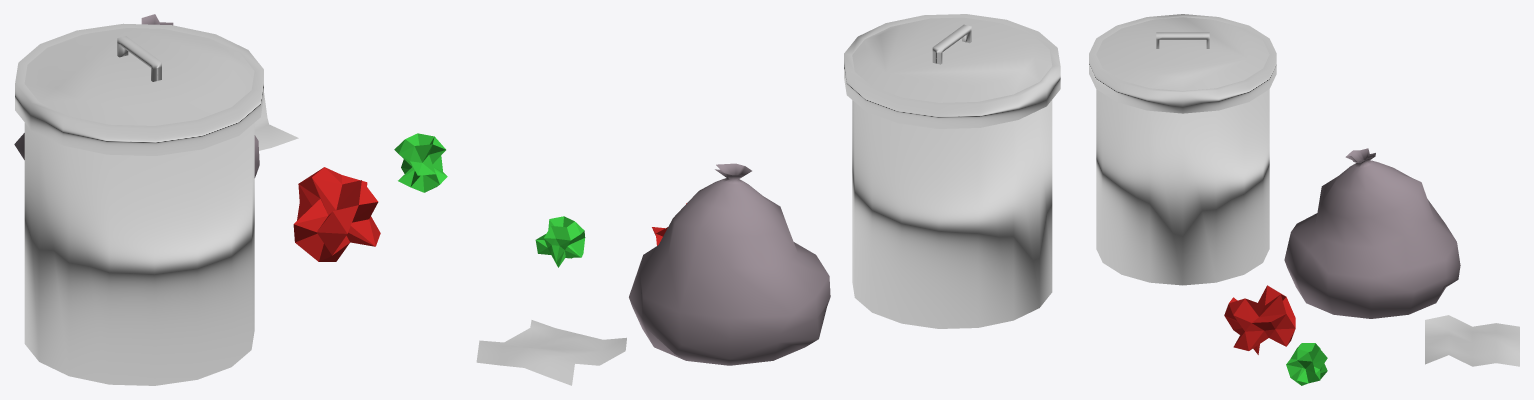
The model's file is law_Trash.fbx.
3 views of the same model, side by side, from view 1: azimuth 30°, elevation 25°; view 2: azimuth 150°, elevation 25°; view 3: azimuth 270°, elevation 25° (orthographic). The views are drawn at different scales.
Parts seen in each view (by area): view 1: Cube, Icosphere.001, Icosphere, Plane, Sphere; view 2: Cube, Sphere, Plane, Icosphere; view 3: Cube, Sphere, Plane, Icosphere.001, Icosphere.
Boxes of the visible parts, left/top/right/bottom form: Cube: left=15, top=23, right=263, bottom=385; Icosphere.001: left=293, top=167, right=380, bottom=261; Icosphere: left=394, top=133, right=447, bottom=192; Plane: left=254, top=93, right=298, bottom=150; Sphere: left=14, top=14, right=259, bottom=177; Cube: left=844, top=14, right=1060, bottom=328; Sphere: left=629, top=163, right=830, bottom=365; Plane: left=476, top=320, right=626, bottom=385; Icosphere: left=535, top=216, right=585, bottom=267; Cube: left=1089, top=14, right=1276, bottom=285; Sphere: left=1284, top=148, right=1460, bottom=318; Plane: left=1425, top=315, right=1519, bottom=366; Icosphere.001: left=1224, top=285, right=1295, bottom=354; Icosphere: left=1286, top=343, right=1327, bottom=385.
Bounding box in the file's own units: 497 × 294 × 497.
